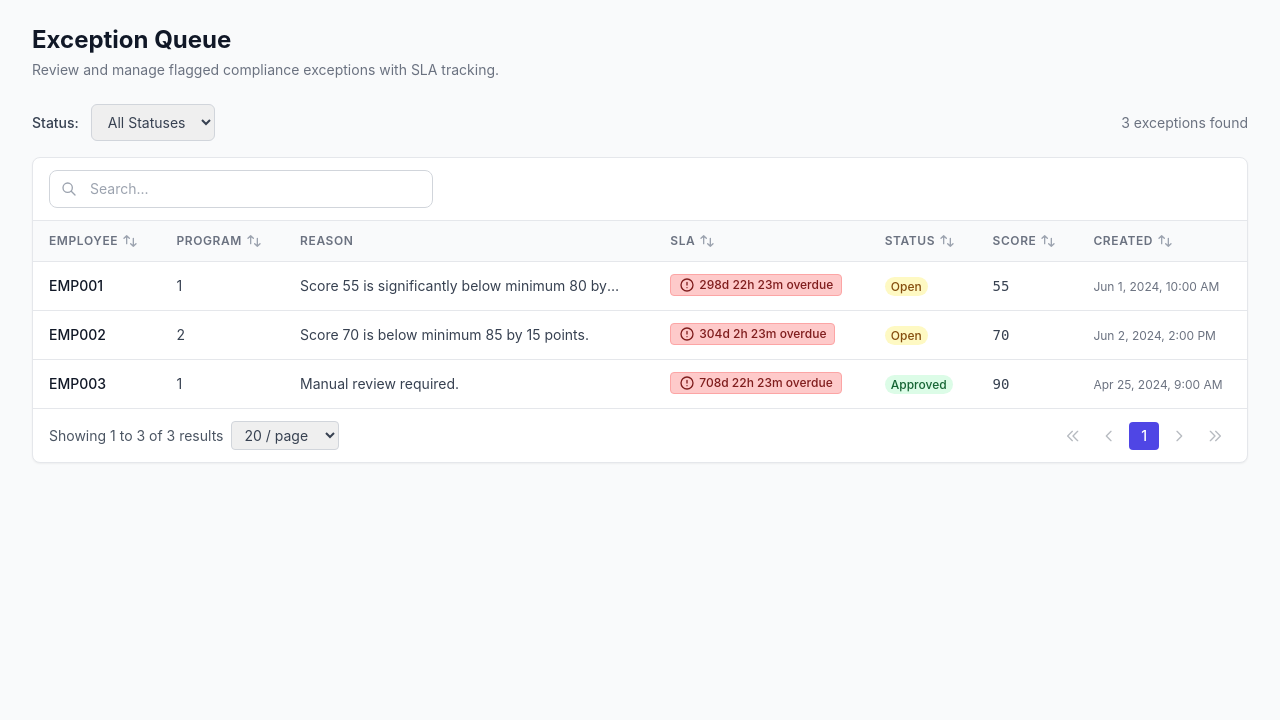
Test: ExceptionQueuePage › opens review drawer when clicking on an exception row
This screenshot has width=1280, height=720.
What coordinates should you click on to do the following:
click the text "EMP001"
I would click on:
 (76, 286)
Its box is x1=49 y1=277 x2=103 y2=294.
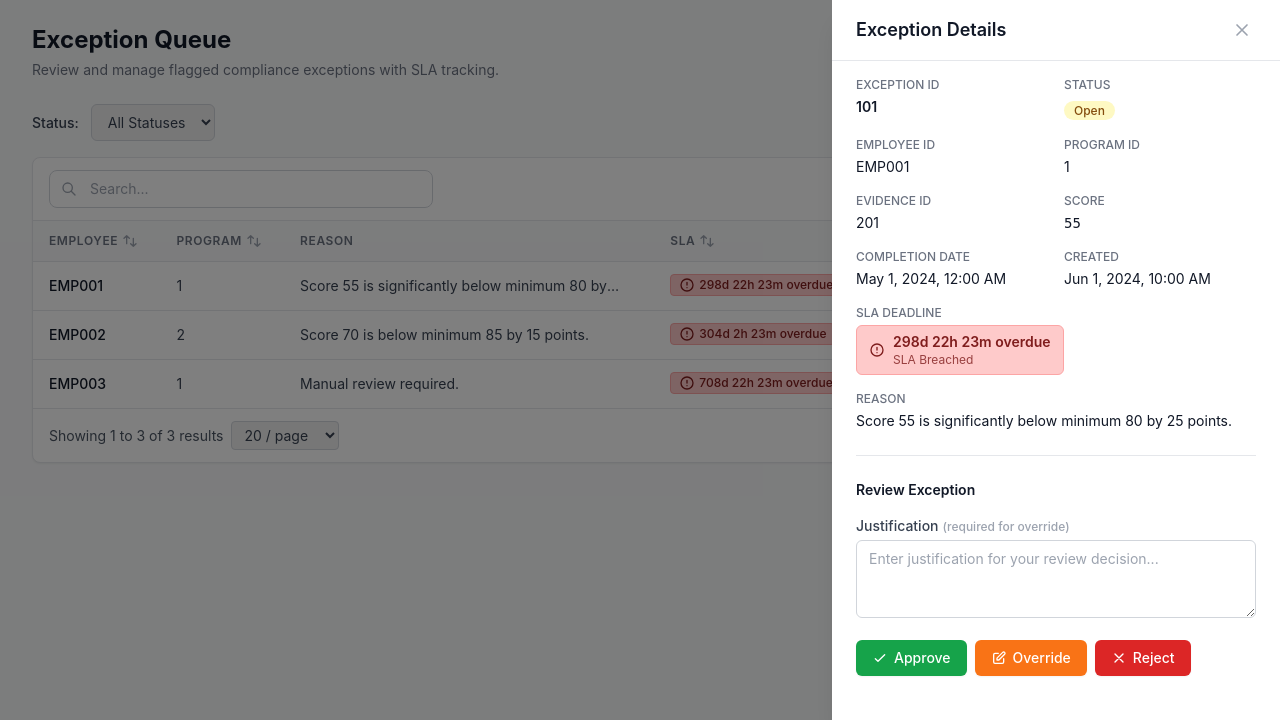
Now the heading "Exception Details" is shown, box x1=856 y1=16 x2=1006 y2=44
Now the heading "Review Exception" is shown, box x1=856 y1=481 x2=975 y2=498
Now the text "Exception ID" is shown, box x1=856 y1=77 x2=939 y2=92
